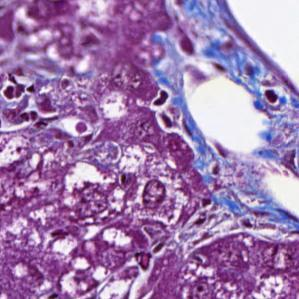inflammation: (0, 76, 41, 108), (143, 84, 178, 112)
